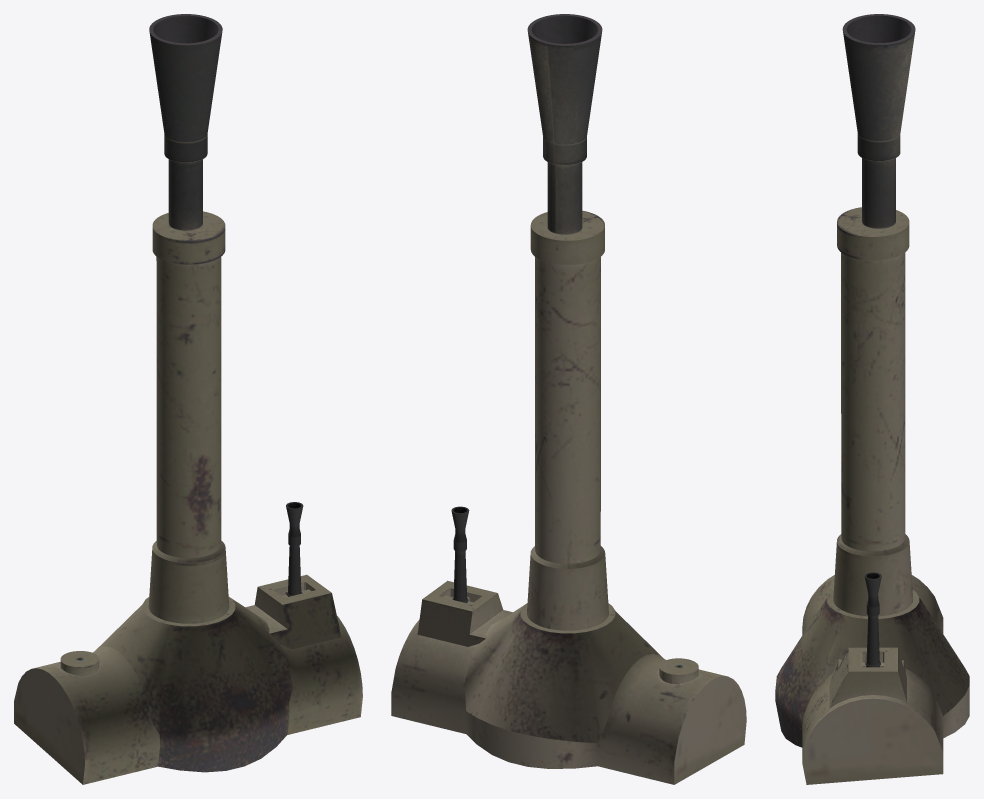
The model's file is Gun_02.glb.
The picture shows the model from 3 angles, left to right: view 1: azimuth 30°, elevation 25°; view 2: azimuth 150°, elevation 25°; view 3: azimuth 270°, elevation 25°; orthographic projection. The views are drawn at different scales.
Visible parts, largest first — view 1: set_0_group_0; view 2: set_0_group_0; view 3: set_0_group_0.
Boxes of the visible parts, bbox=[...] form: set_0_group_0: bbox=[14, 14, 362, 784]; set_0_group_0: bbox=[391, 14, 746, 784]; set_0_group_0: bbox=[775, 14, 969, 784].
Size of the model in its own units: 0.6849 by 1.66 by 0.4185.
Materials: 1 (1 with a texture image).
